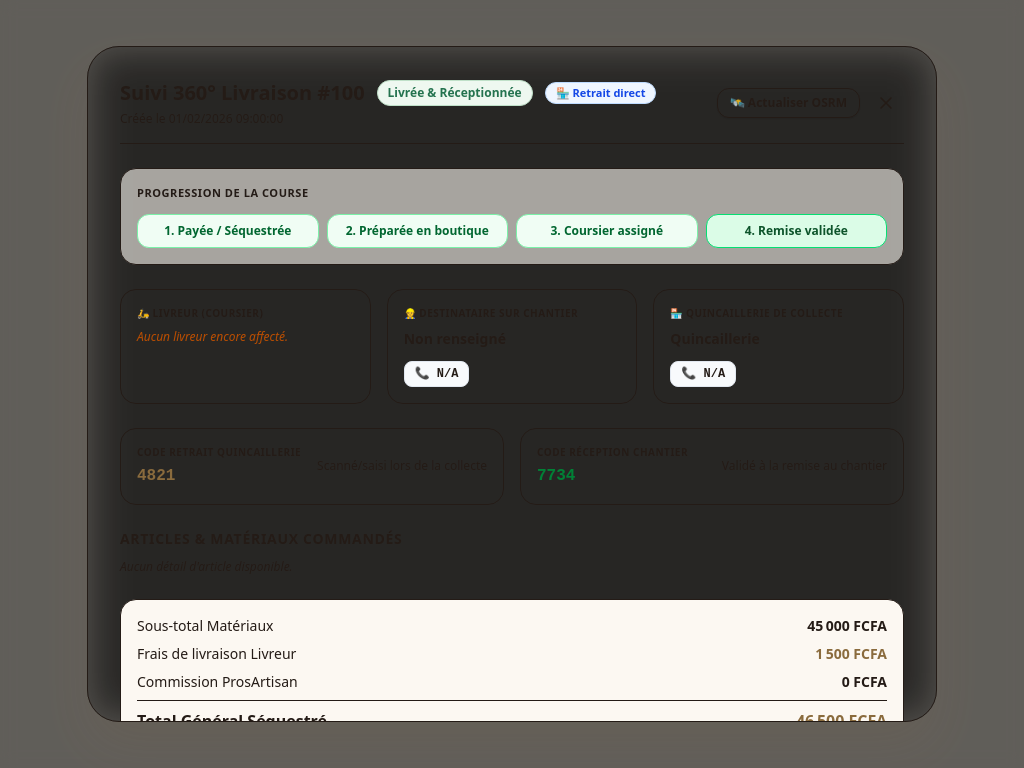
Test case: OrderDetailModal › recharge la télémétrie au clic sur "Actualiser OSRM"
The image size is (1024, 768).
Click the button "🛰️ Actualiser OSRM": (788, 103) [717,88,860,118]
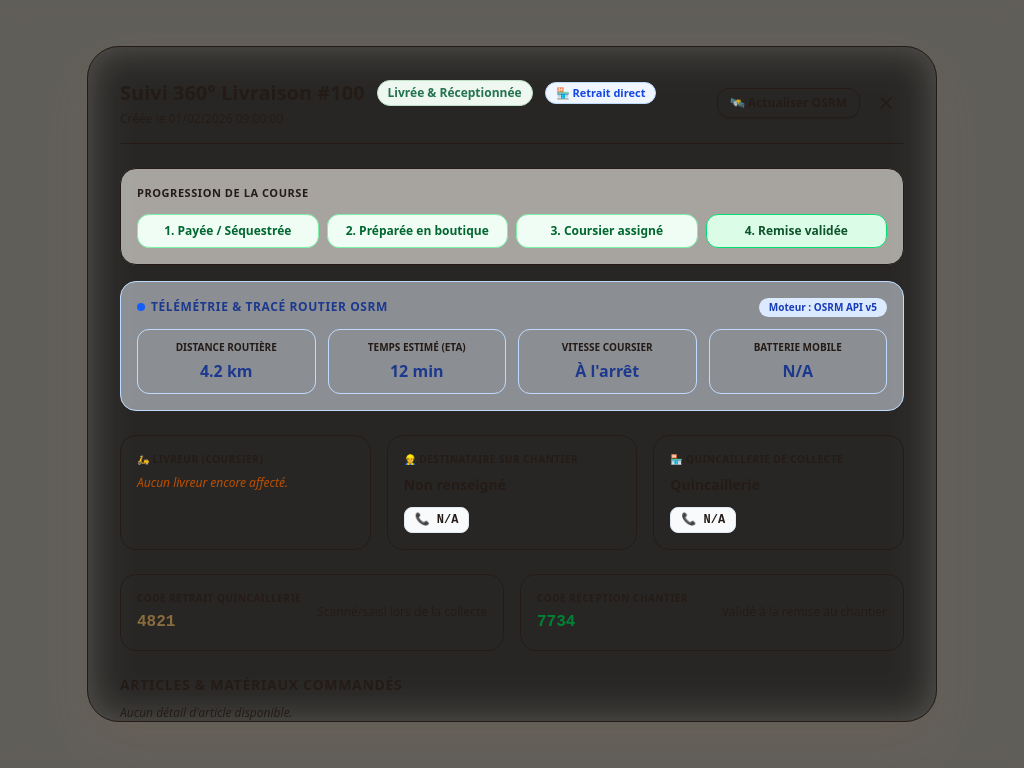
Result: the text "Moteur : OSRM API v5" is shown at [759,298,887,317]
